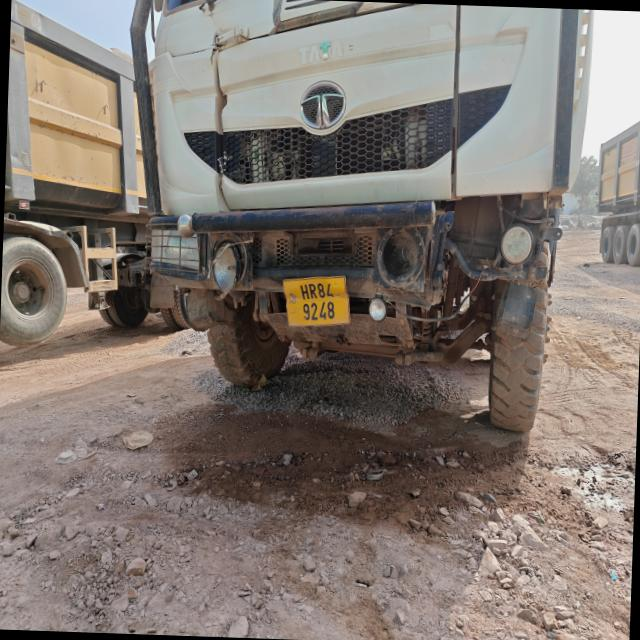license_plate: (284, 277, 350, 326)
